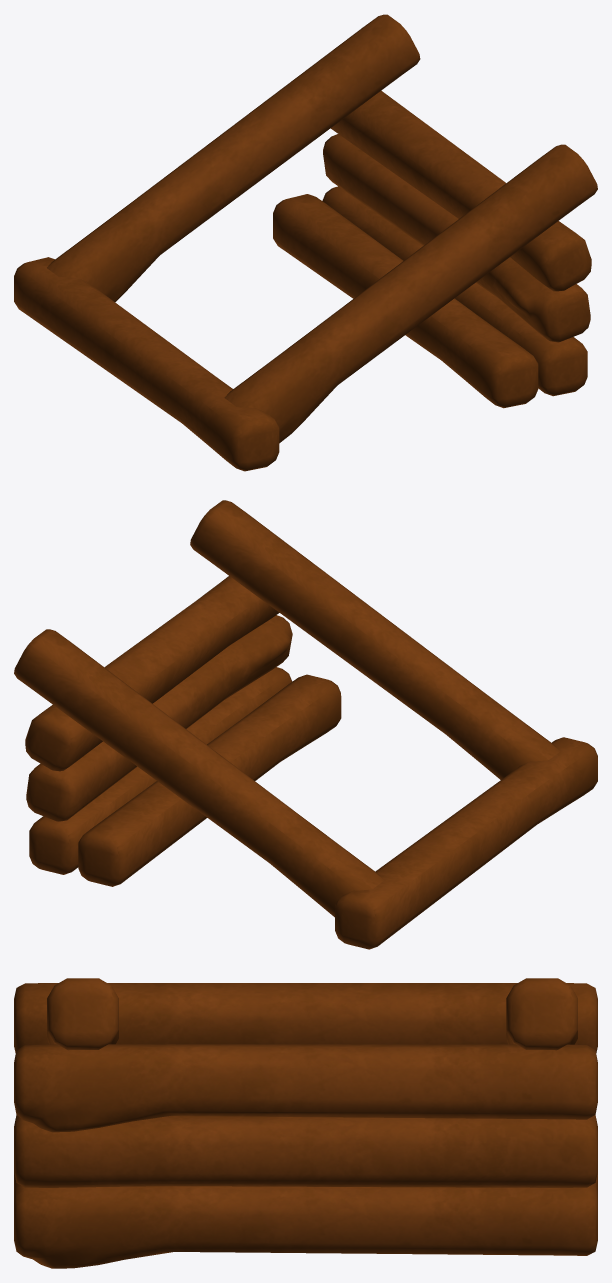
The model's file is trench.fbx.
3 views of the same model, one above another, from view 1: azimuth 30°, elevation 25°; view 2: azimuth 150°, elevation 25°; view 3: azimuth 270°, elevation 25° (orthographic). The views are drawn at different scales.
Parts seen in each view (by area): view 1: thrench; view 2: thrench; view 3: thrench.
Boxes of the visible parts, left/top/right/bottom form: thrench: left=14, top=14, right=597, bottom=471; thrench: left=14, top=500, right=597, bottom=949; thrench: left=14, top=978, right=597, bottom=1268.
Size of the model in its own units: 137 by 78.92 by 141.
